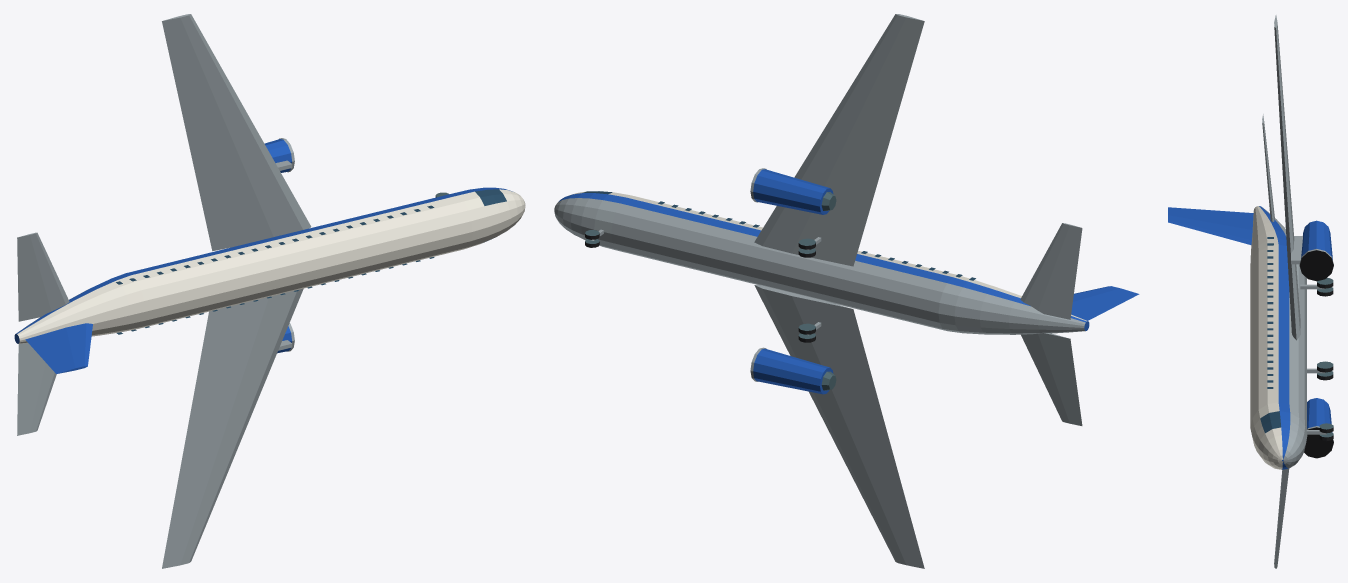
3 renders of one model, left to right at view 1: azimuth 30°, elevation 25°; view 2: azimuth 150°, elevation 25°; view 3: azimuth 270°, elevation 25°, orthographic.
Parts seen in each view (by area): view 1: default_fuselage, default_wing1, default_wing-1, default_tailplane1, default_tailplane-1, default_fin1; view 2: default_fuselage, default_wing1, default_wing-1, default_tailplane1, default_tailplane-1, default_engine3.8-1, default_engine3.81, default_fin1; view 3: default_fuselage, default_wing1, default_fin1, default_engine3.81, default_engine3.8-1, default_wing-1, default_engine3.81_lip, default_windows1, default_tailplane1, default_engine3.81_pylon, default_engine3.8-1_lip.
Boxes of the visible parts, box(x1,y1,x2,y2) form: default_fuselage: box(14, 187, 525, 343); default_wing1: box(162, 14, 311, 251); default_wing-1: box(162, 288, 303, 568); default_tailplane1: box(17, 232, 69, 321); default_tailplane-1: box(17, 343, 56, 435); default_fin1: box(25, 323, 92, 373); default_fuselage: box(554, 191, 1089, 334); default_wing1: box(754, 14, 924, 266); default_wing-1: box(754, 285, 924, 568); default_tailplane1: box(1020, 223, 1082, 319); default_tailplane-1: box(1021, 333, 1082, 425); default_engine3.8-1: box(753, 348, 833, 394); default_engine3.81: box(753, 169, 833, 214); default_fin1: box(1071, 286, 1139, 320); default_fuselage: box(1250, 206, 1307, 469); default_wing1: box(1274, 15, 1300, 340); default_fin1: box(1168, 207, 1253, 244); default_engine3.81: box(1300, 220, 1333, 280); default_engine3.8-1: box(1304, 398, 1333, 457); default_wing-1: box(1274, 468, 1289, 568); default_engine3.81_lip: box(1299, 249, 1333, 281); default_windows1: box(1267, 237, 1273, 388); default_tailplane1: box(1262, 114, 1274, 222); default_engine3.81_pylon: box(1291, 236, 1302, 264); default_engine3.8-1_lip: box(1304, 426, 1333, 458).
Size of the model in its own units: 23.3 by 23.2 by 6.45.
